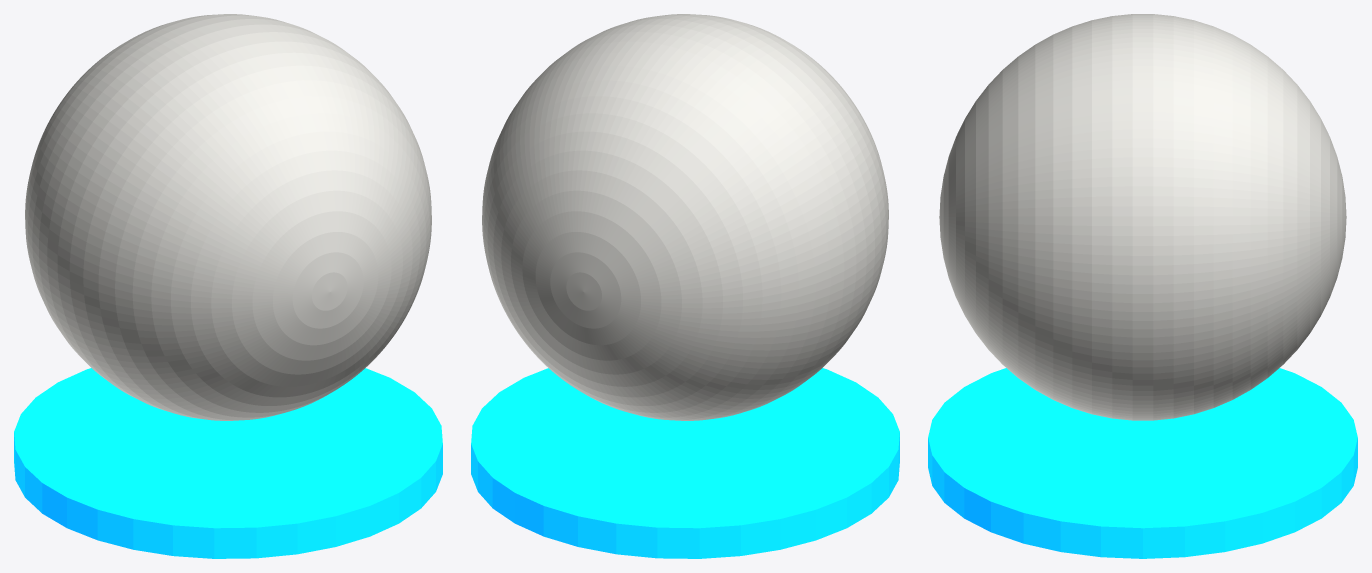
The model's file is sports_volleyball.glb.
3 renders of one model, left to right at view 1: azimuth 30°, elevation 25°; view 2: azimuth 150°, elevation 25°; view 3: azimuth 270°, elevation 25°, orthographic.
Parts seen in each view (by area): view 1: 04_06_Popular_Sports_Volleyball_part_01, 04_06_Popular_Sports_Volleyball_ROOT_base; view 2: 04_06_Popular_Sports_Volleyball_part_01, 04_06_Popular_Sports_Volleyball_ROOT_base; view 3: 04_06_Popular_Sports_Volleyball_part_01, 04_06_Popular_Sports_Volleyball_ROOT_base.
Part boxes in pixels (box(x1,y1,x2,y2)): 04_06_Popular_Sports_Volleyball_part_01: box(25, 14, 431, 420); 04_06_Popular_Sports_Volleyball_ROOT_base: box(14, 368, 442, 558); 04_06_Popular_Sports_Volleyball_part_01: box(482, 14, 888, 420); 04_06_Popular_Sports_Volleyball_ROOT_base: box(471, 368, 899, 558); 04_06_Popular_Sports_Volleyball_part_01: box(939, 14, 1346, 420); 04_06_Popular_Sports_Volleyball_ROOT_base: box(928, 368, 1357, 558).
Size of the model in its own units: 0.76 by 0.8491 by 0.76.
